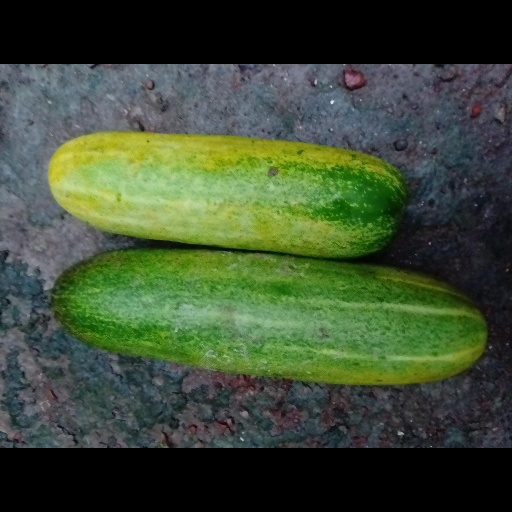concombre: (50, 247, 489, 386), (47, 130, 409, 261)
